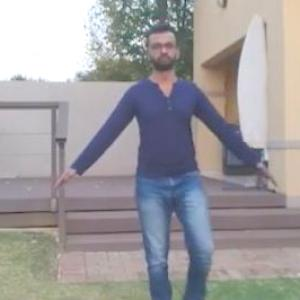land: (59, 30, 257, 299)
